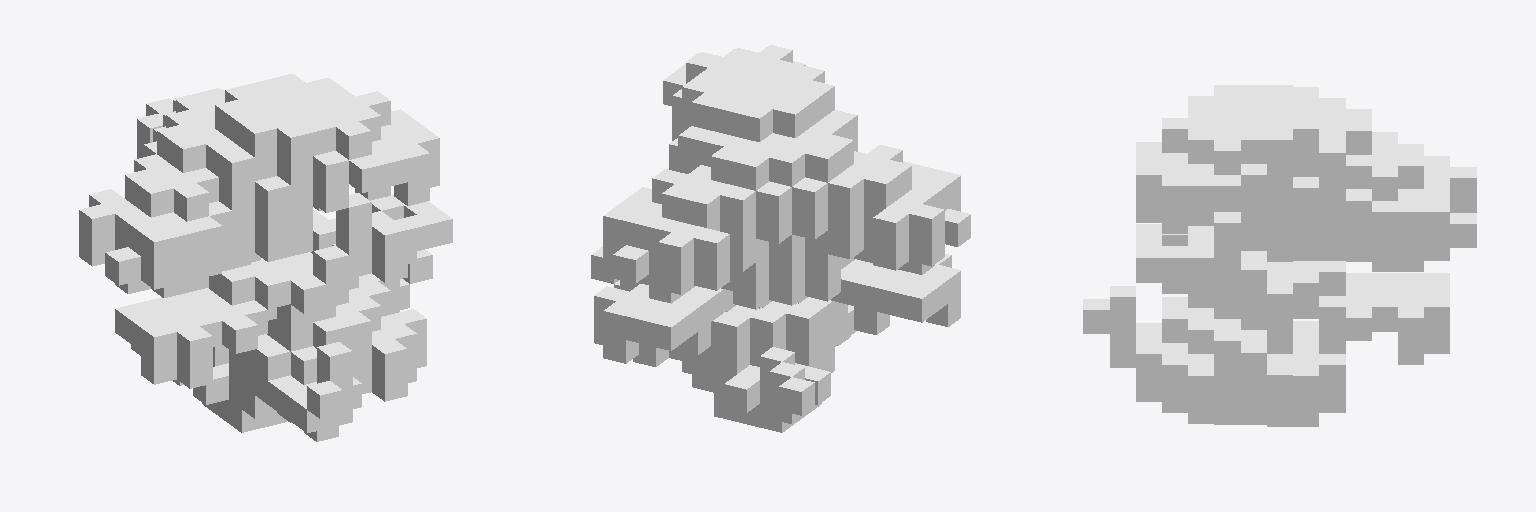
The model's file is FygarInflate1Quarter.obj.
The picture shows the model from 3 angles: view 1: azimuth 30°, elevation 25°; view 2: azimuth 150°, elevation 25°; view 3: azimuth 270°, elevation 25°; orthographic projection.
Visible parts, largest first — view 1: Fygar; view 2: Fygar; view 3: Fygar.
Boxes of the visible parts, box(x1,y1,x2,y2) form: Fygar: box(79, 74, 452, 441); Fygar: box(591, 45, 970, 432); Fygar: box(1083, 85, 1476, 426).
Bounding box in the file's own units: 1.5 × 1.3 × 1.5.